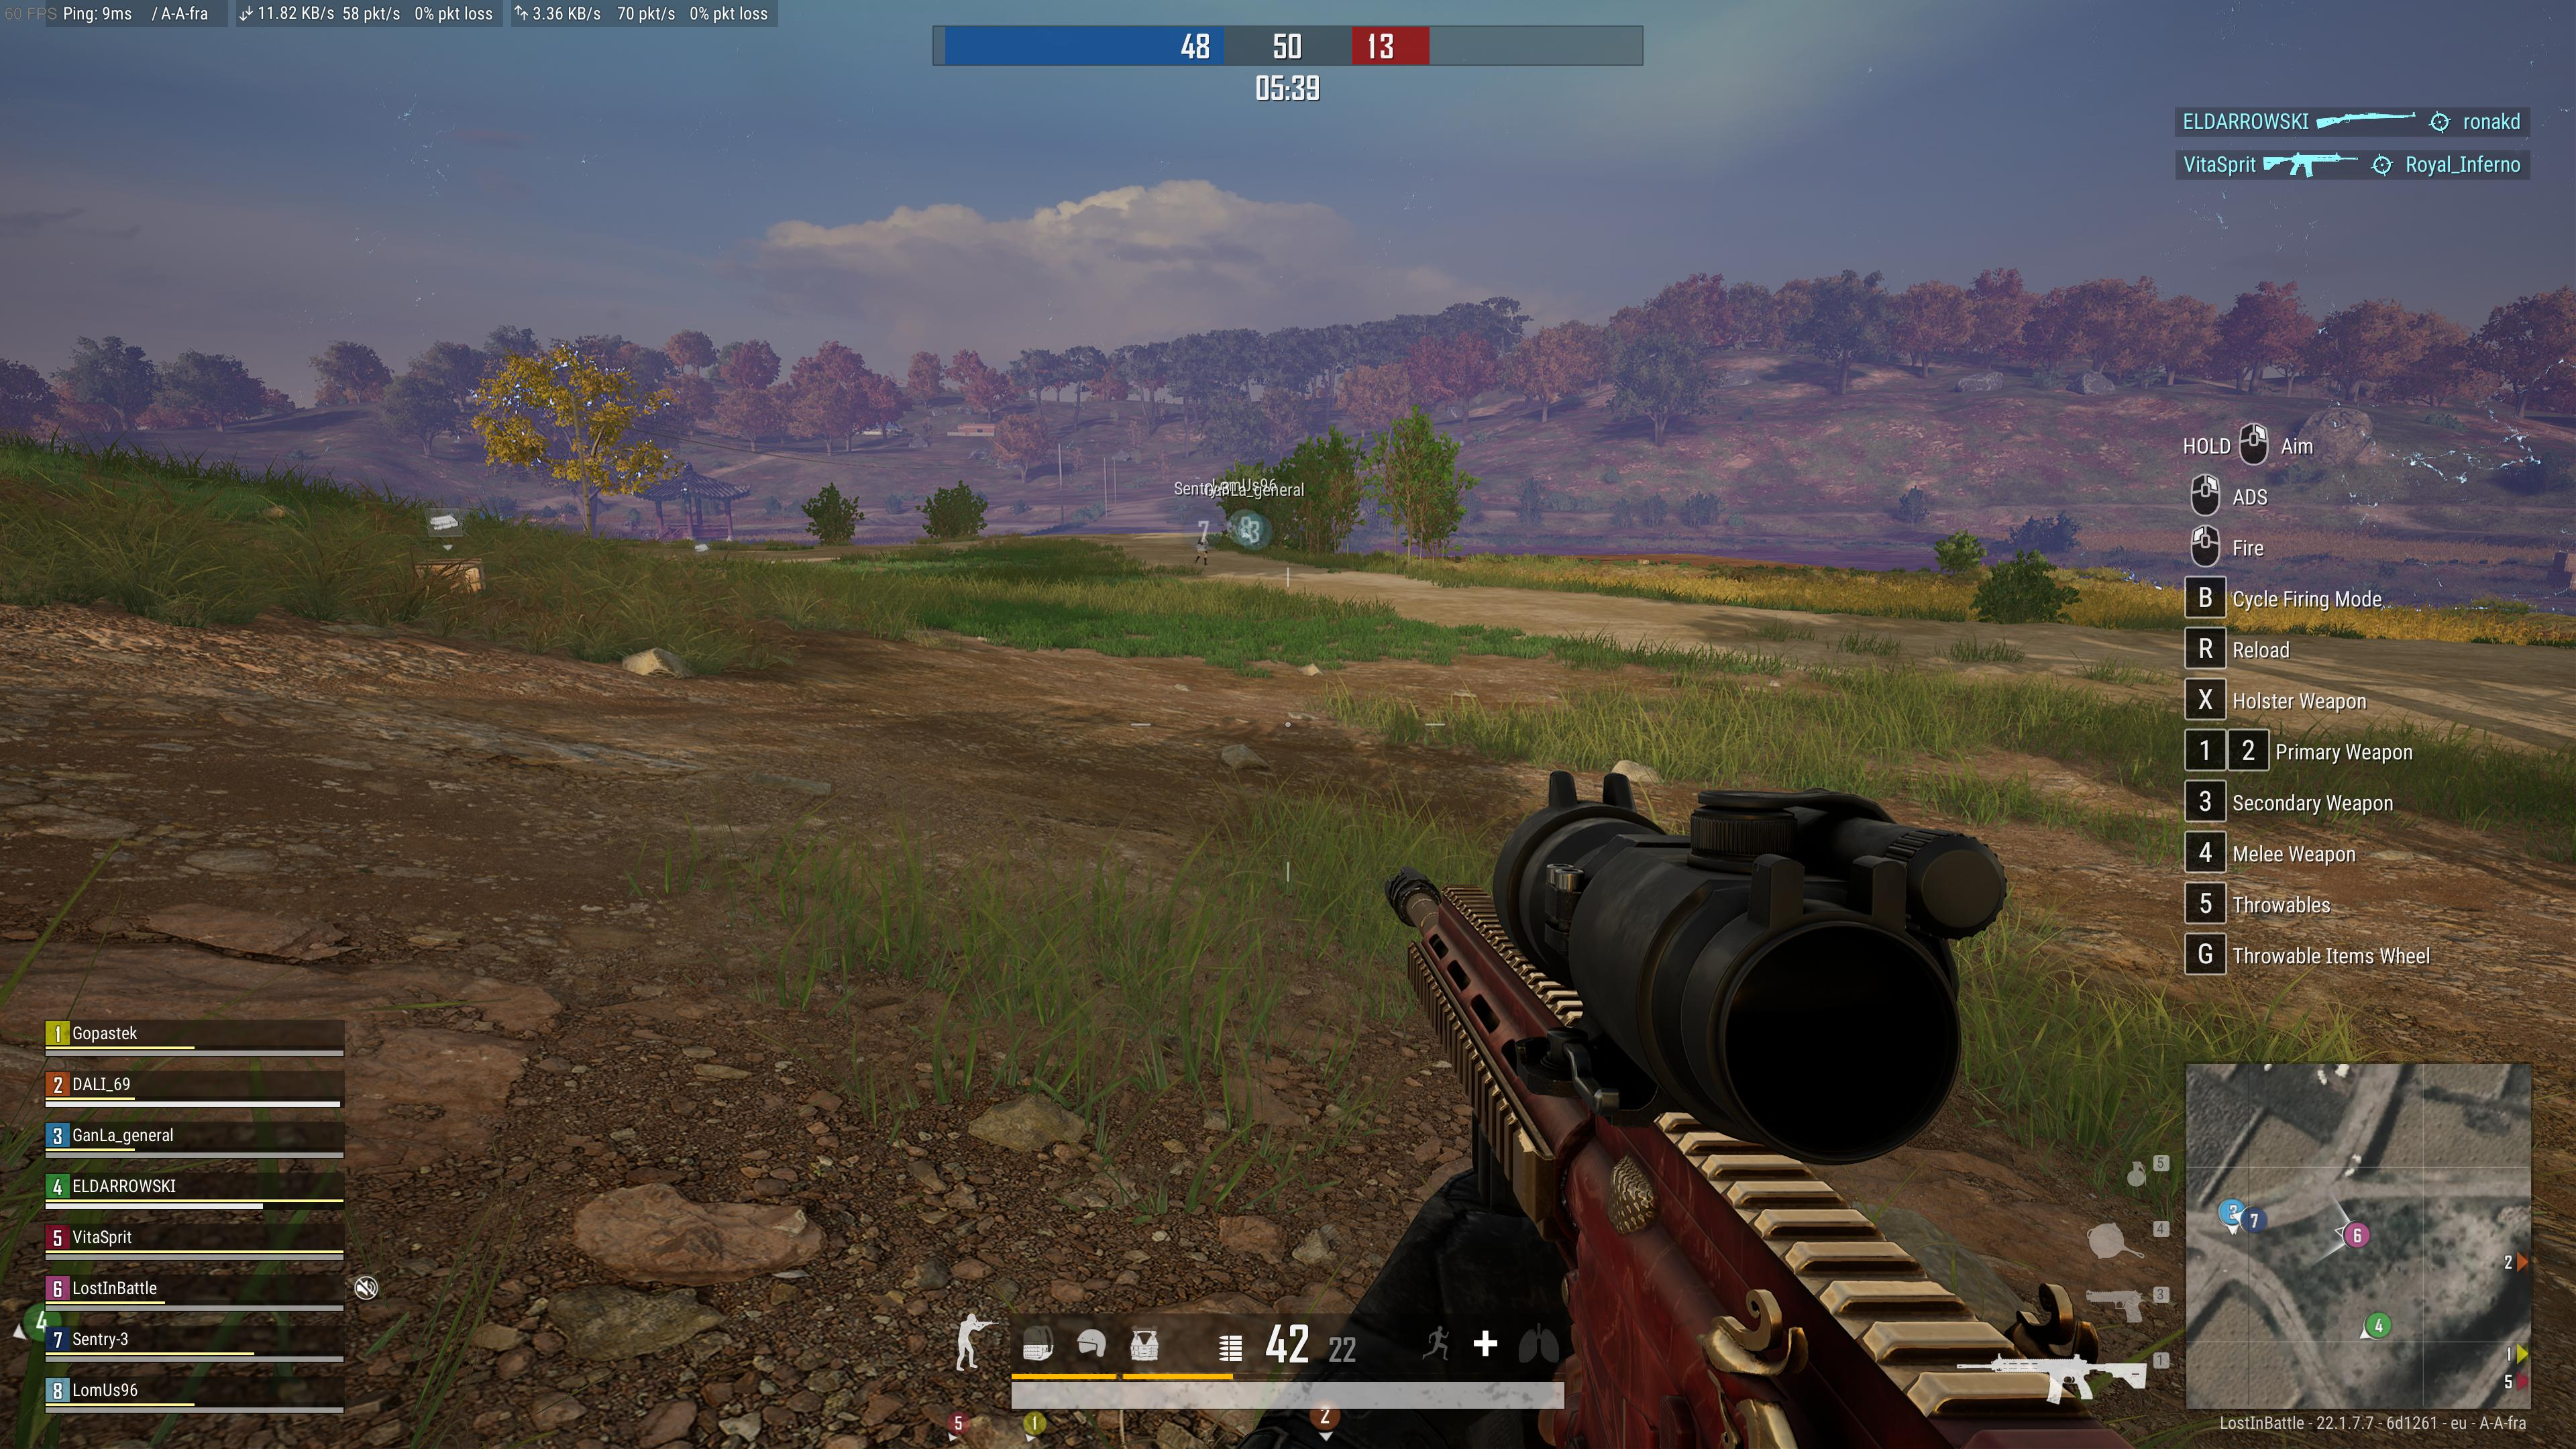friendly: (1192, 531, 1210, 566)
